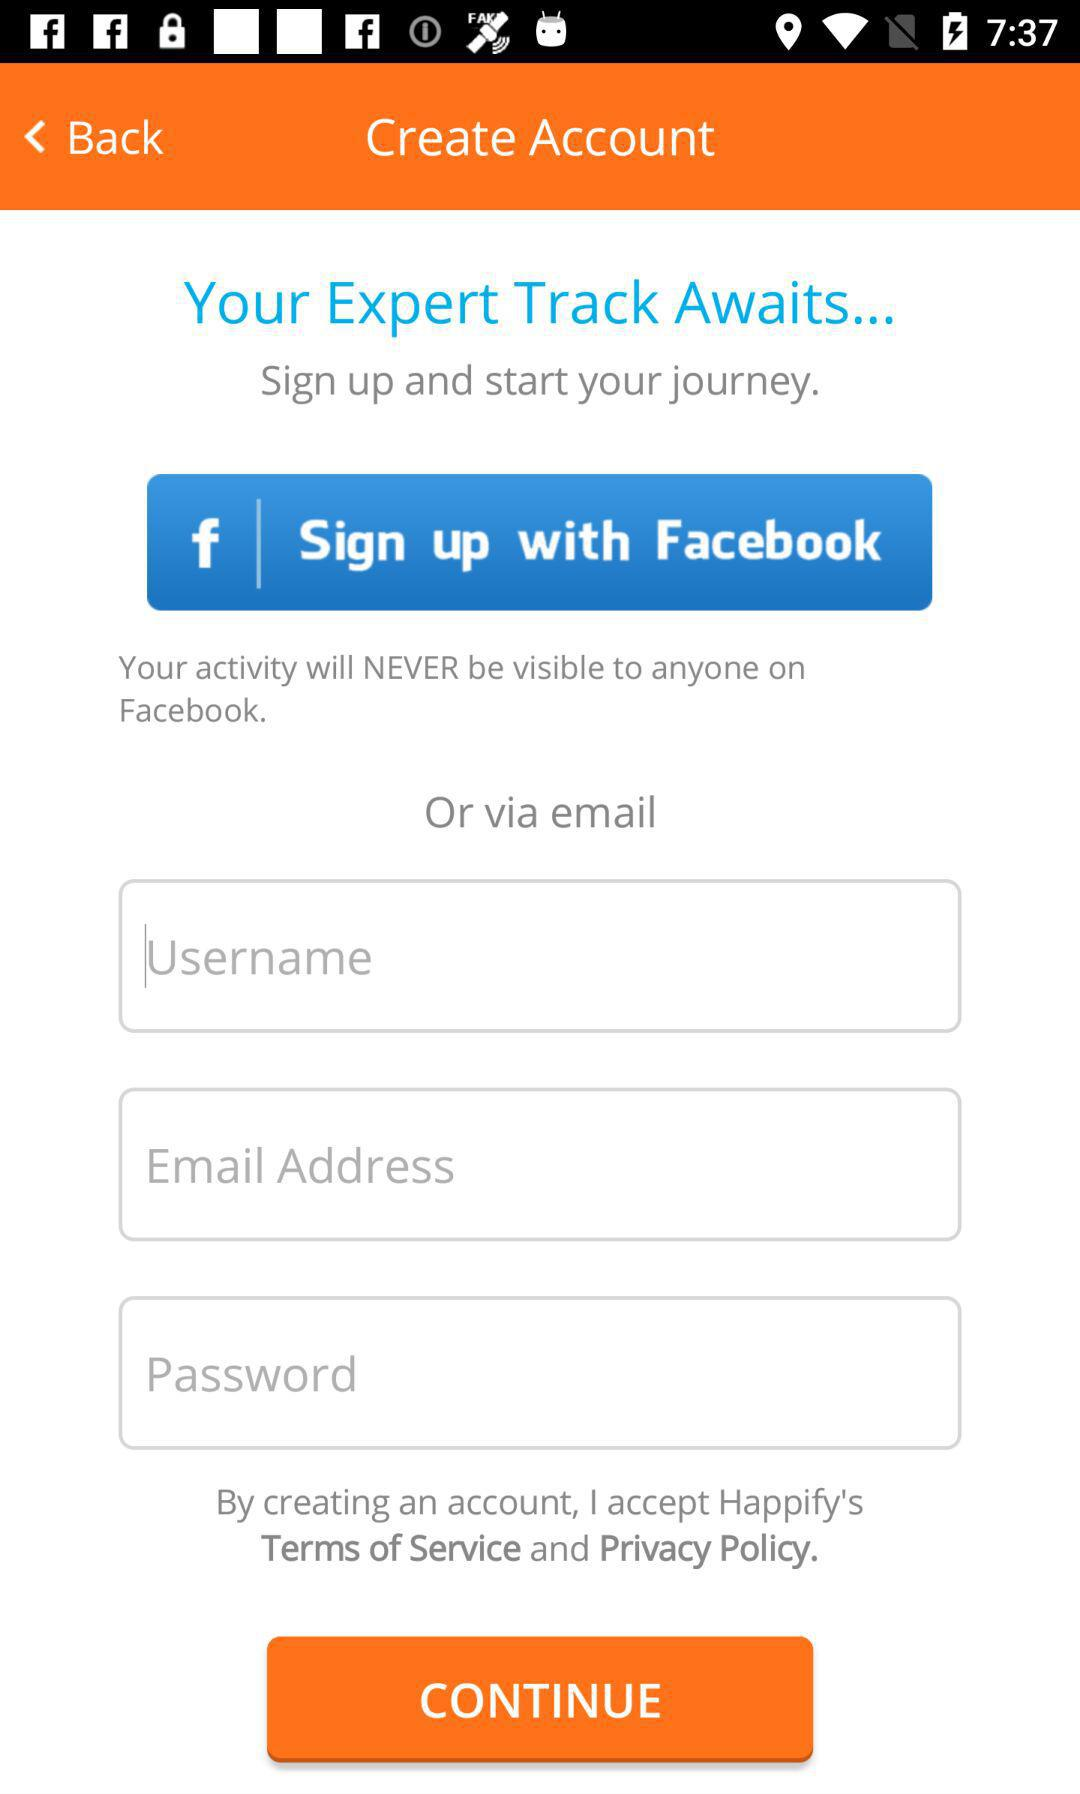EditText: (118, 1088, 962, 1243), (118, 1296, 962, 1451), (119, 879, 962, 1034)
Icon: (24, 120, 49, 156)
Text: (218, 1488, 863, 1570), (119, 654, 805, 725), (184, 281, 894, 340), (261, 364, 819, 406), (366, 118, 716, 159), (150, 1147, 455, 1185), (427, 794, 656, 830), (149, 941, 373, 976), (149, 1354, 356, 1393), (69, 119, 167, 158)
TextButton: (147, 474, 933, 613), (266, 1636, 814, 1763)
Toolbar: (1, 64, 1080, 211)
UpperTaskBar: (1, 1, 1080, 64)
